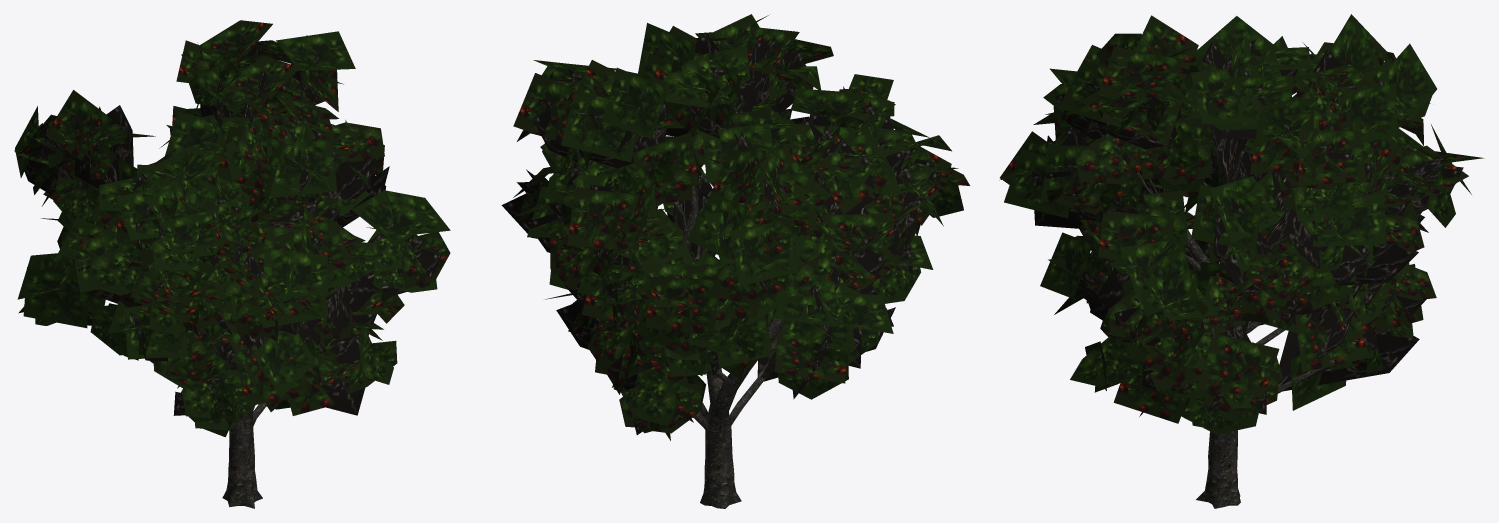
The model's file is manzano_near.glb.
The picture shows the model from 3 angles, left to right: view 1: azimuth 30°, elevation 25°; view 2: azimuth 150°, elevation 25°; view 3: azimuth 270°, elevation 25°; orthographic projection. The views are drawn at different scales.
Parts seen in each view (by area): view 1: LOD0; view 2: LOD0; view 3: LOD0.
Boxes of the visible parts, bbox=[...] form: LOD0: bbox=[14, 20, 450, 508]; LOD0: bbox=[501, 14, 969, 508]; LOD0: bbox=[999, 14, 1484, 508].
Bounding box in the file's own units: 0.1422 × 0.157 × 0.1458.
Materials: 1 (1 with a texture image).
